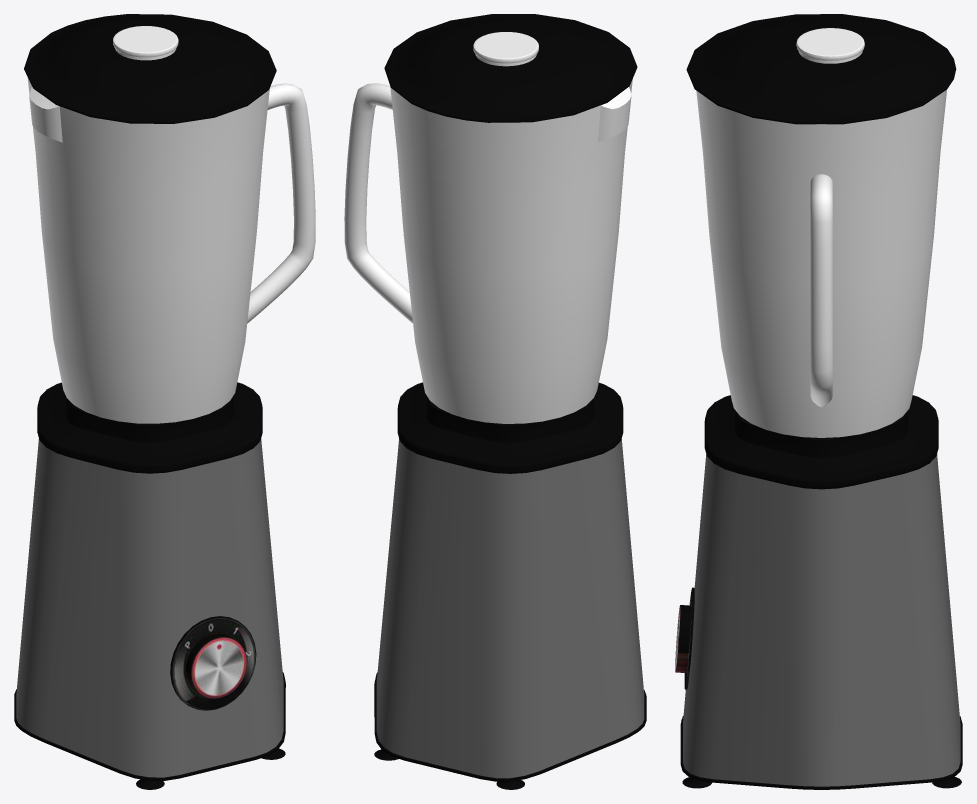
File: Blender.fbx
3 renders of one model, left to right at view 1: azimuth 30°, elevation 25°; view 2: azimuth 150°, elevation 25°; view 3: azimuth 270°, elevation 25°, orthographic. The views are drawn at different scales.
Visible parts, largest first — view 1: Blender; view 2: Blender; view 3: Blender.
Boxes of the visible parts, bbox=[...] form: Blender: bbox=[14, 14, 315, 789]; Blender: bbox=[344, 14, 646, 789]; Blender: bbox=[675, 14, 962, 789].
Size of the model in its own units: 16.53 by 36.85 by 13.54.
Materials: 3 (1 with a texture image).
